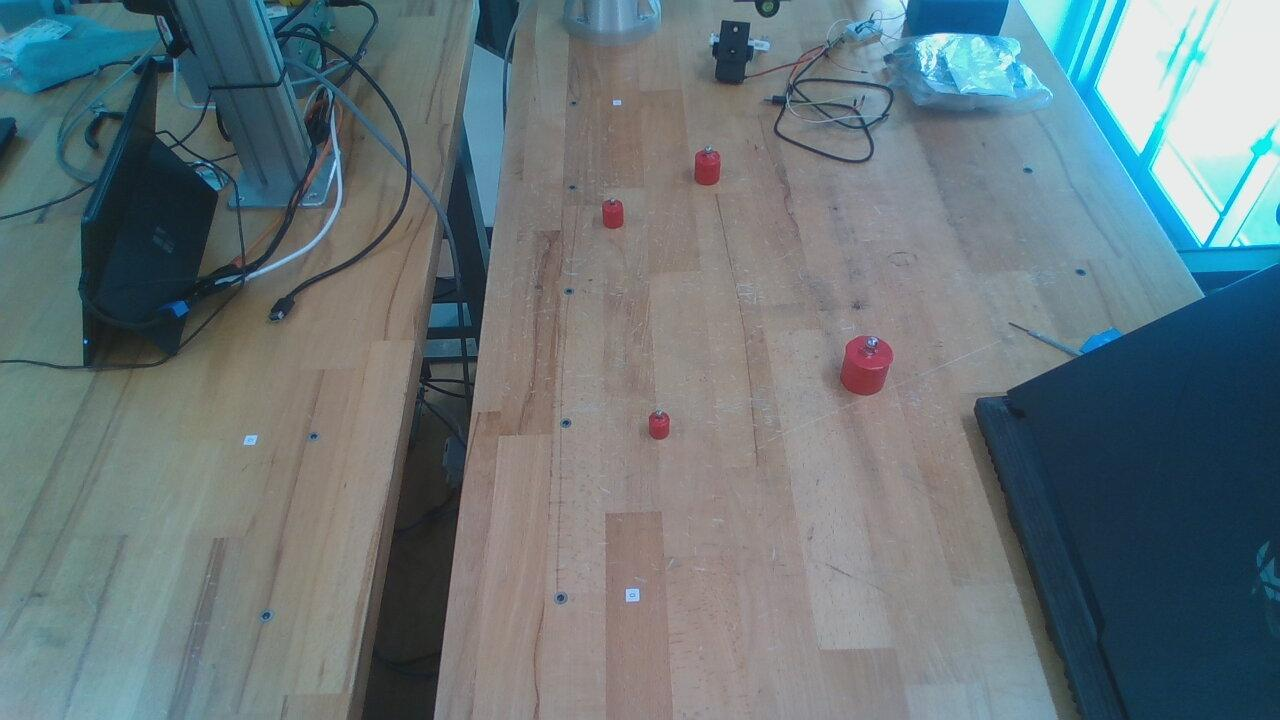red_object: (839, 335, 891, 399), (690, 145, 727, 193), (594, 195, 627, 234), (646, 410, 674, 441)
